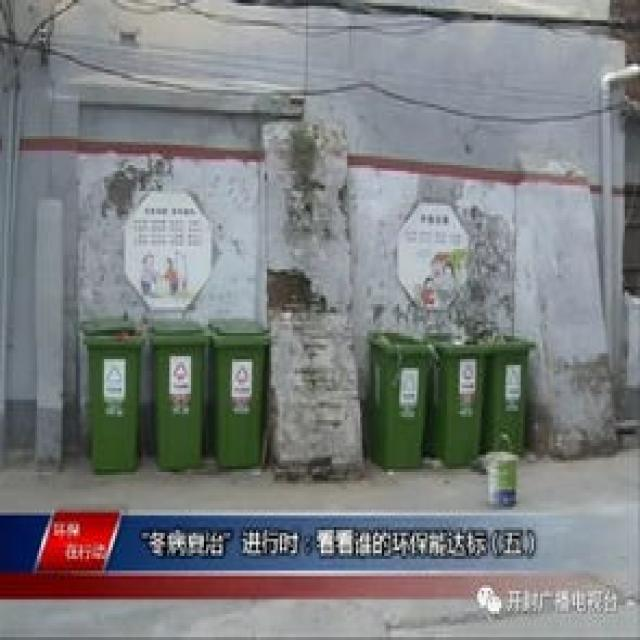garbage_bin: (80, 316, 141, 472), (148, 319, 208, 469), (206, 316, 265, 466), (366, 327, 429, 466), (425, 327, 486, 466), (482, 333, 534, 455)
